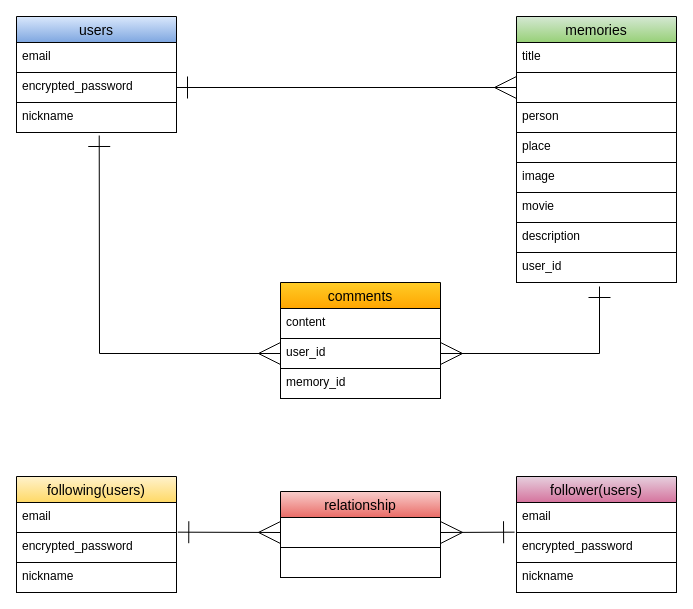
The diagram is 693 pixels wide and 609 high, and some of its shapes have lost their labels. Here are the shapes that lost their labels. From the top down, the centre of each, then its label:
At [596,87]: "date".
At [360,532]: "following_id".
At [360,562]: "follower_id".
